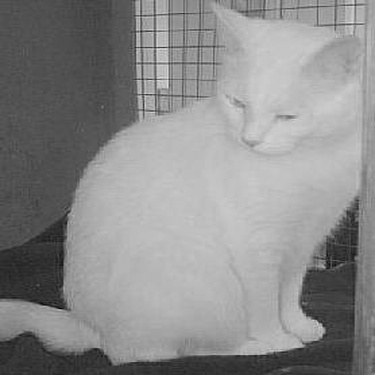cat: (6, 5, 357, 368)
